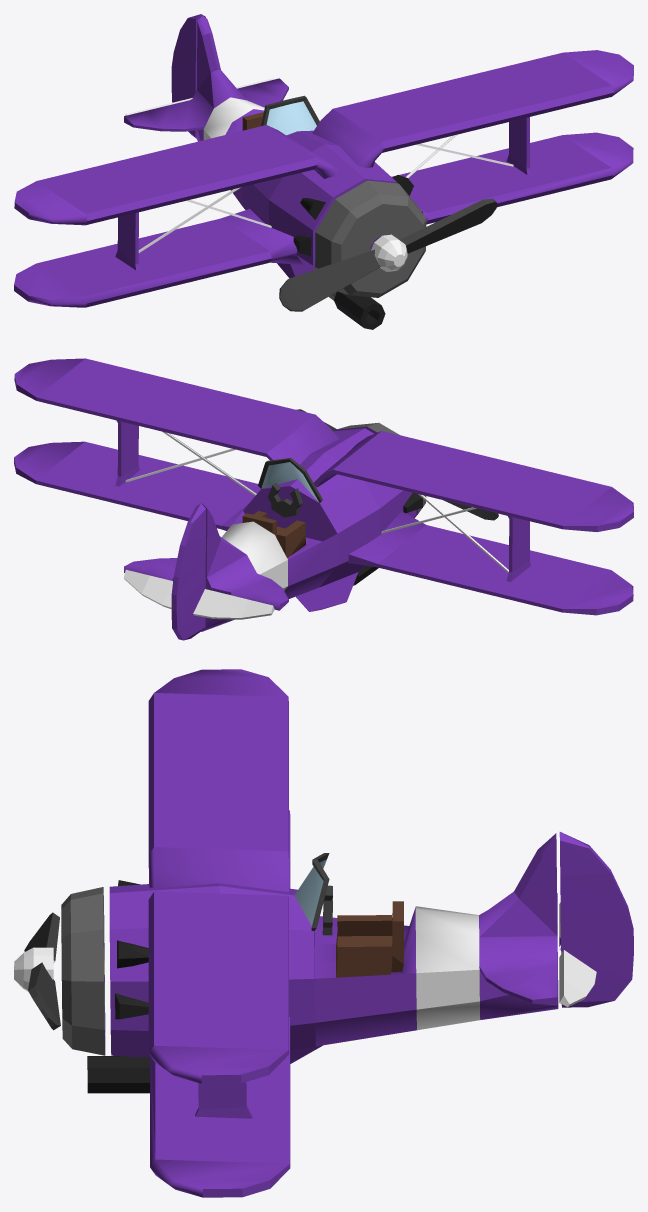
Rendered from Enemy_Plane.glb.
3 renders of one model, top to bottom at view 1: azimuth 30°, elevation 25°; view 2: azimuth 150°, elevation 25°; view 3: azimuth 270°, elevation 25°, orthographic. The views are drawn at different scales.
Parts seen in each view (by area): view 1: airplne body, propellor; view 2: airplne body; view 3: airplne body, propellor.
Part boxes in pixels (x1,y1,x2,y2): airplne body: [14, 14, 633, 329]; propellor: [279, 198, 497, 311]; airplne body: [14, 358, 633, 640]; airplne body: [61, 669, 633, 1197]; propellor: [14, 912, 60, 1030].
Size of the model in its own units: 3.78 by 1.16 by 2.44.
5 materials, 5 textured.
